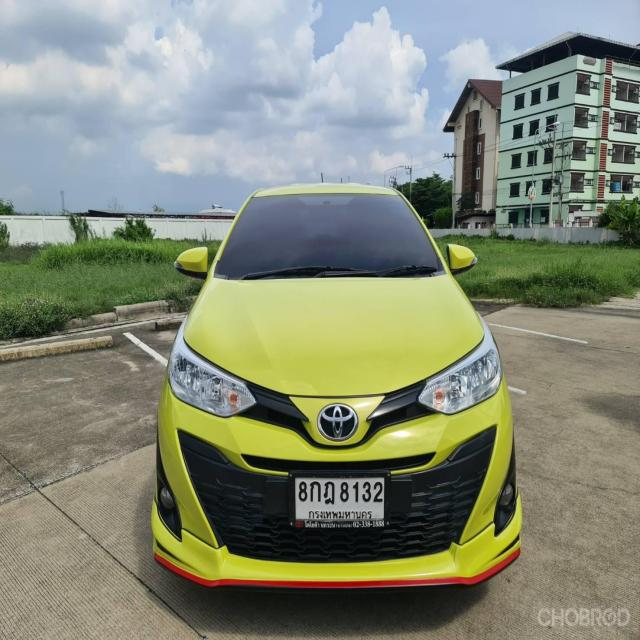license_plate: (288, 469, 389, 530)
